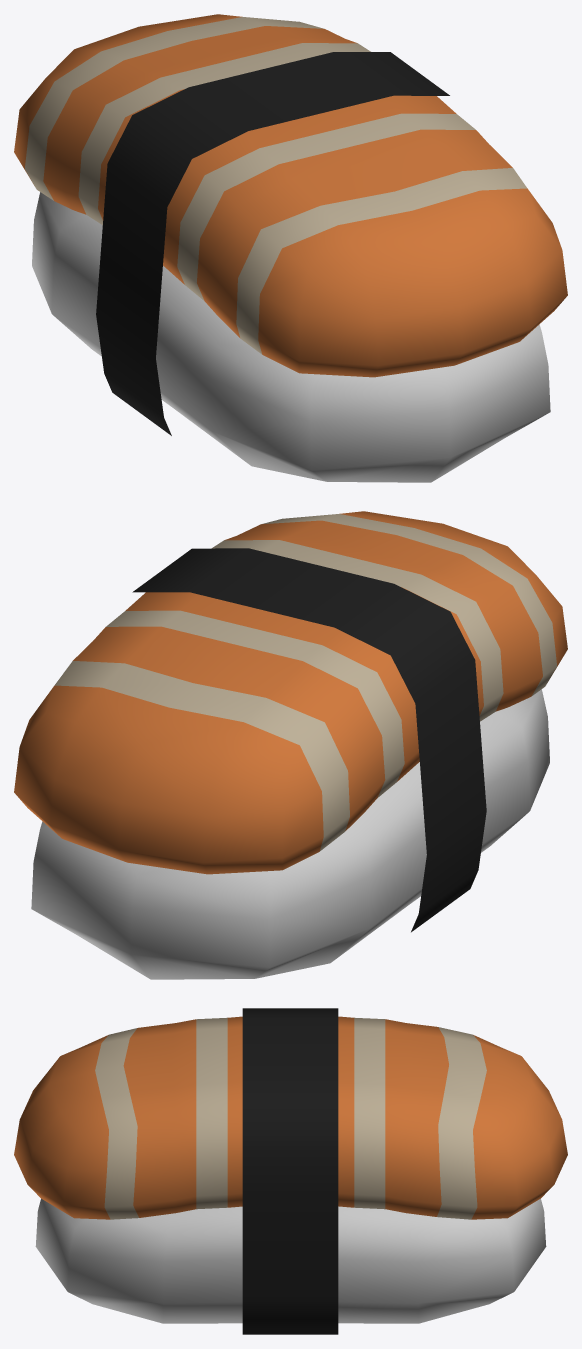
Rendered from salmon-nigiri.glb.
3 renders of one model, top to bottom at view 1: azimuth 30°, elevation 25°; view 2: azimuth 150°, elevation 25°; view 3: azimuth 270°, elevation 25°, orthographic. The views are drawn at different scales.
Visible parts, largest first — view 1: Food_SalmonNigiri; view 2: Food_SalmonNigiri; view 3: Food_SalmonNigiri.
Boxes of the visible parts, <box> form: Food_SalmonNigiri: <box>14,14,567,482</box>; Food_SalmonNigiri: <box>14,511,567,979</box>; Food_SalmonNigiri: <box>14,1008,567,1334</box>.
Size of the model in its own units: 0.3557 by 0.3141 by 0.6512.
